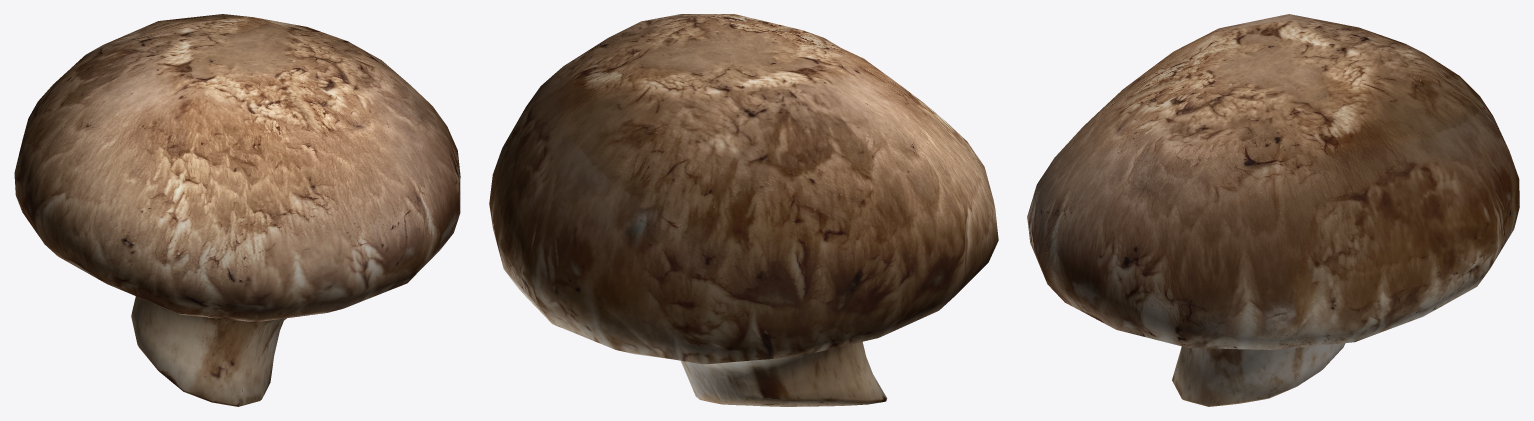
The model's file is mushroom.glb.
The picture shows the model from 3 angles, left to right: view 1: azimuth 30°, elevation 25°; view 2: azimuth 150°, elevation 25°; view 3: azimuth 270°, elevation 25°; orthographic projection. The views are drawn at different scales.
Parts seen in each view (by area): view 1: Mushroom; view 2: Mushroom; view 3: Mushroom.
Part boxes in pixels (x1=…): Mushroom: x1=14, y1=14, x2=460, y2=406; Mushroom: x1=489, y1=14, x2=998, y2=406; Mushroom: x1=1027, y1=14, x2=1519, y2=406.
Bounding box in the file's own units: 0.0756 × 0.0592 × 0.0755.
1 material, 1 textured.
